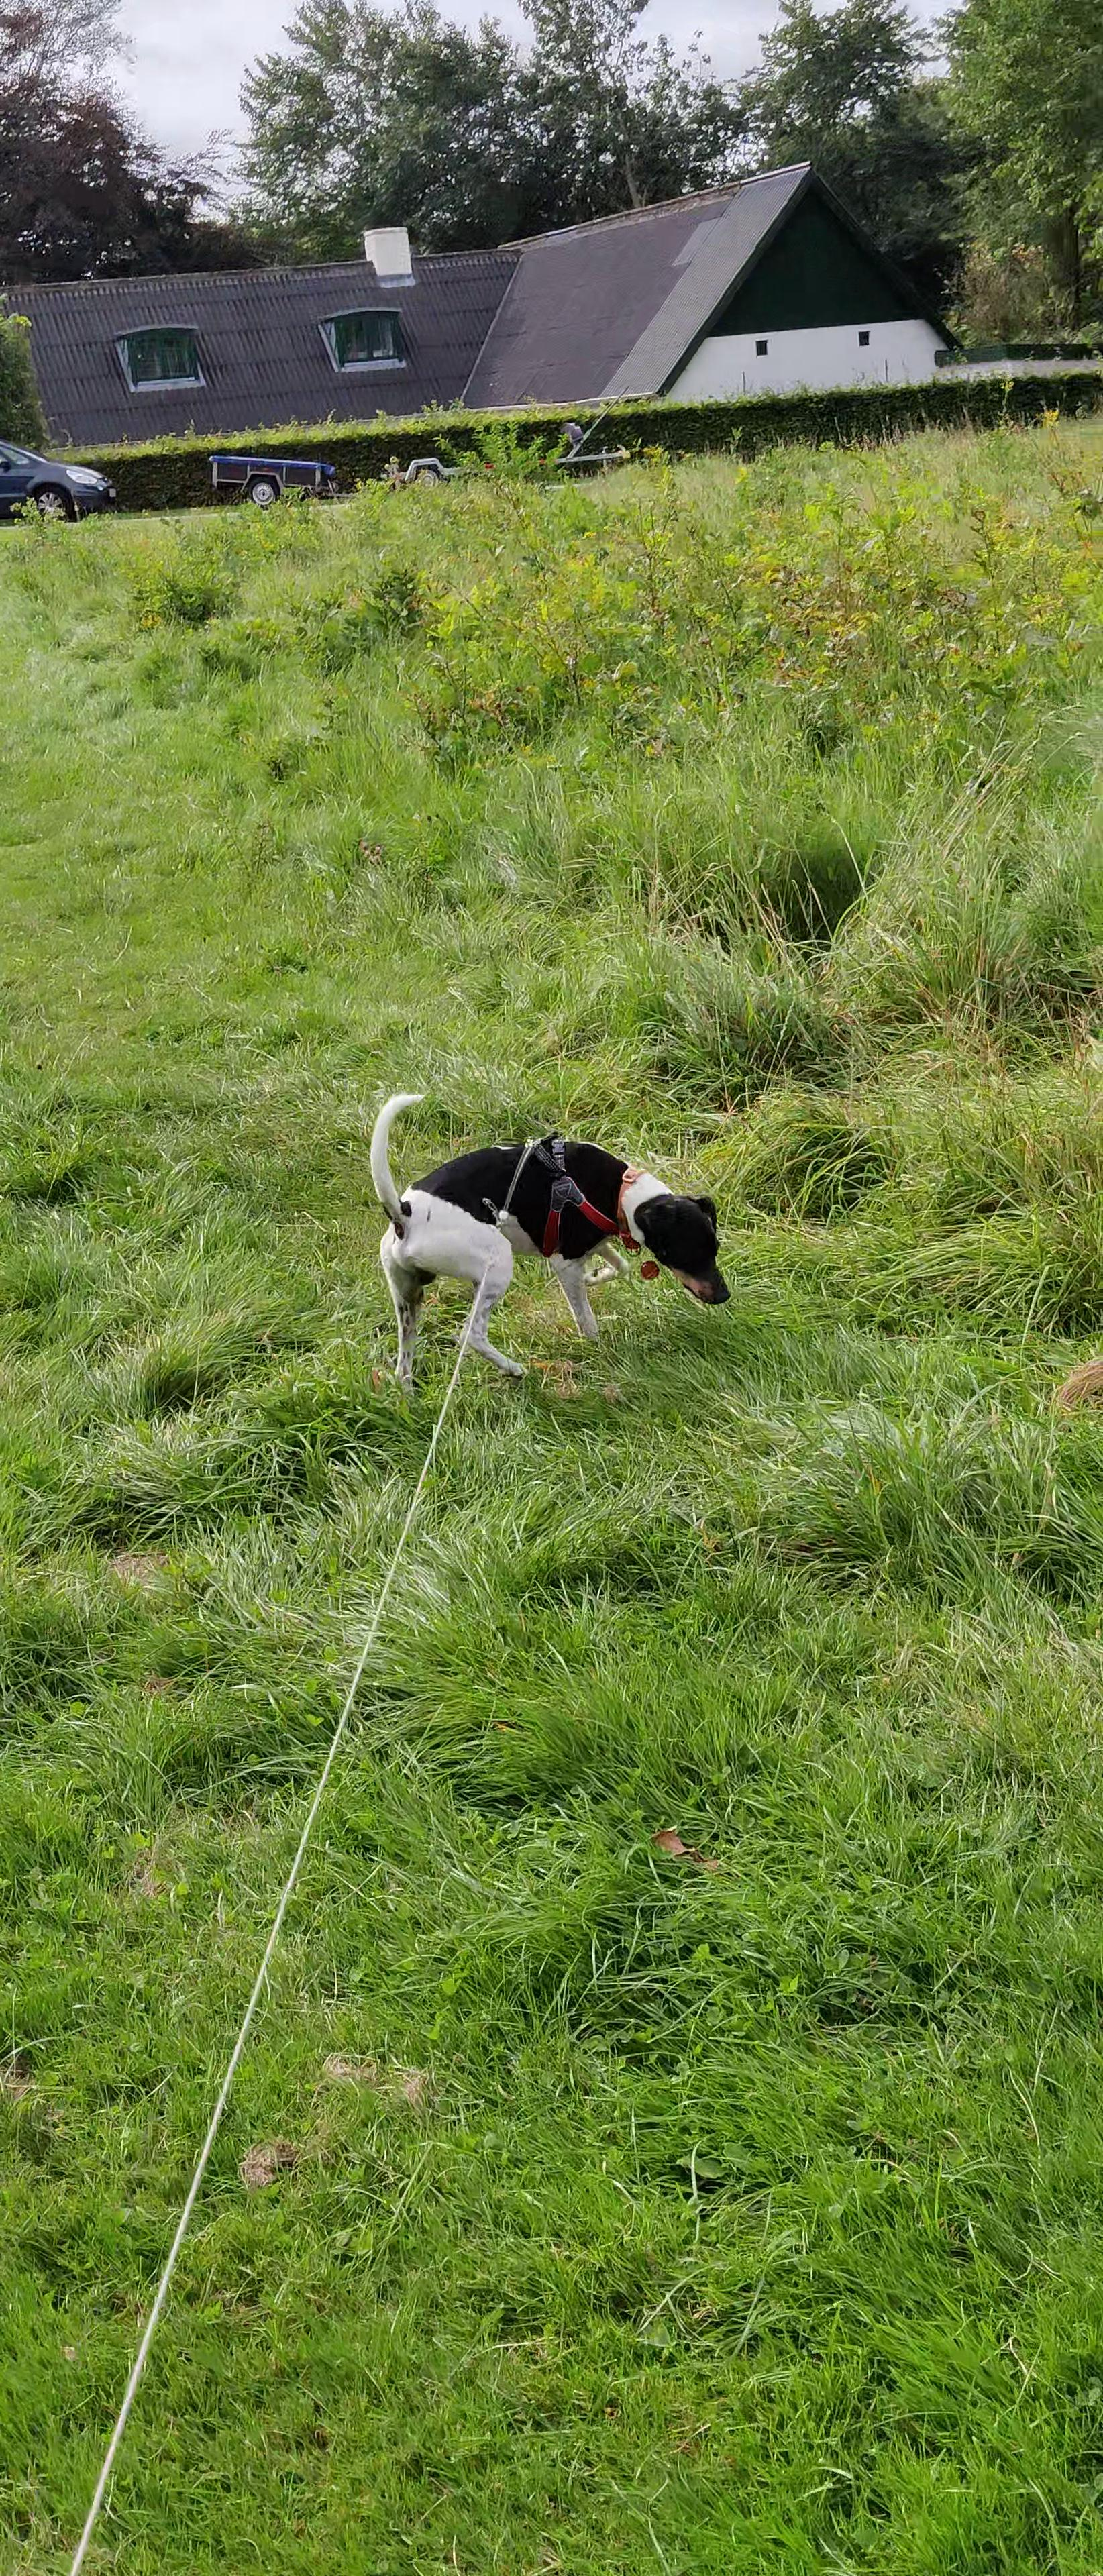Dog: (334, 1069, 759, 1403)
